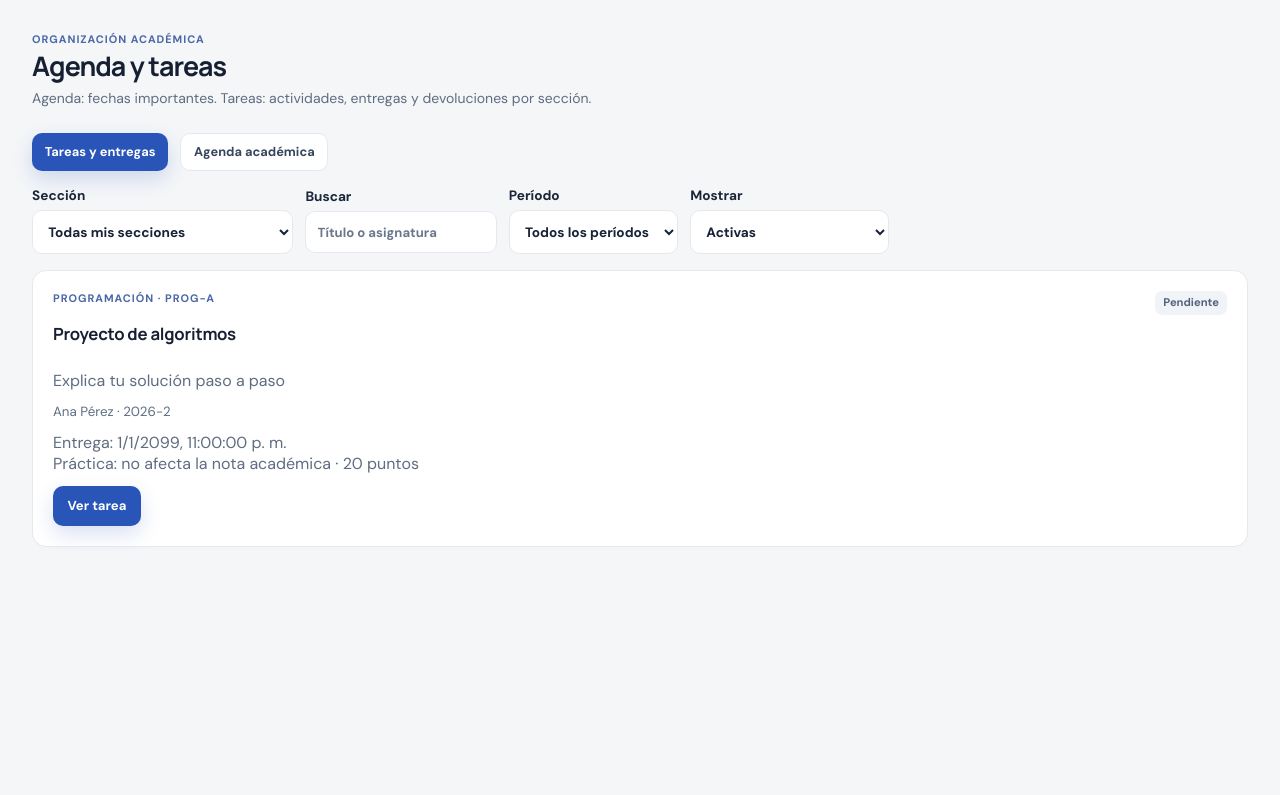
Test: switches the agenda between month, week and list with configurable time
The width and height of the screenshot is (1280, 795).
Expected: the heading "Proyecto de algoritmos" is shown, [53,322,236,345]
Click the tab "Agenda académica" at point(254, 152), box [180,133,328,171]
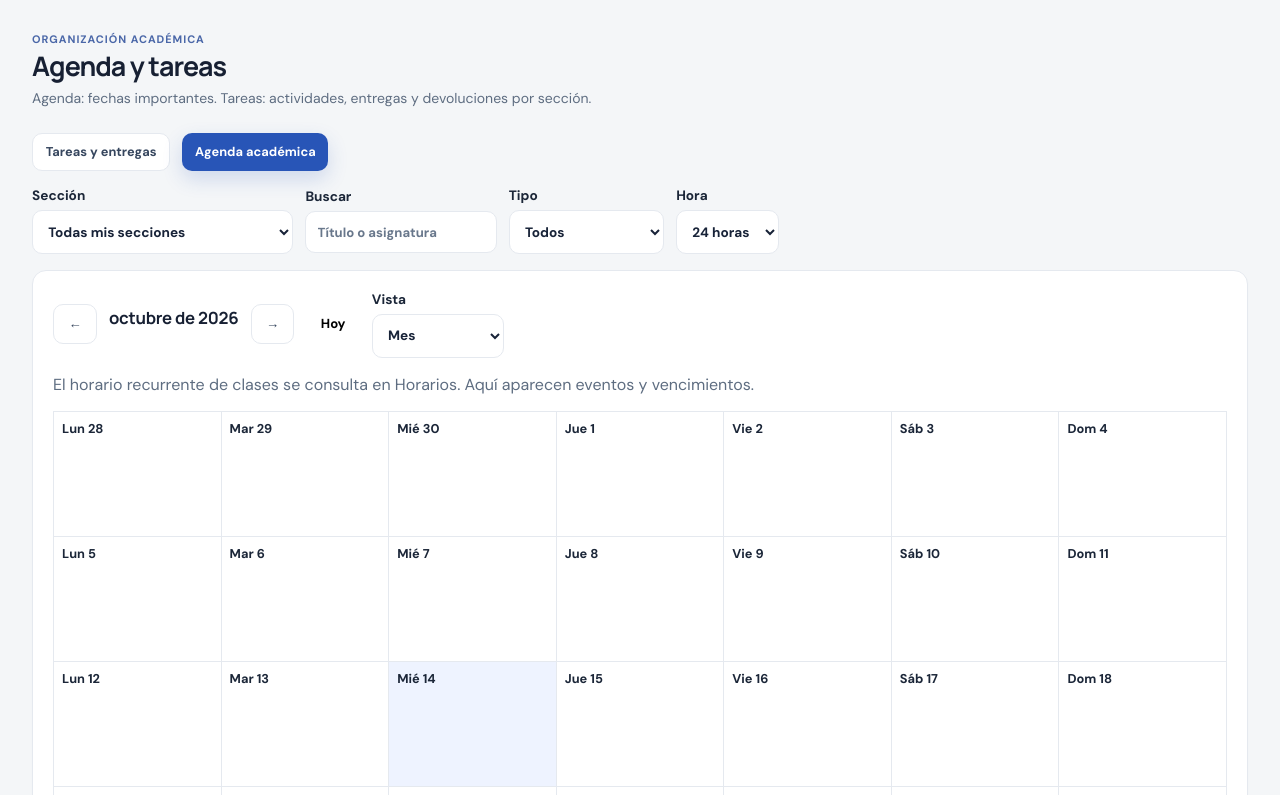
Expected: the number of elements with class "agenda-day" is 42
Select "Semana" in the dropdown labelled "Vista" at point(438, 336), box [372,314,504,358]
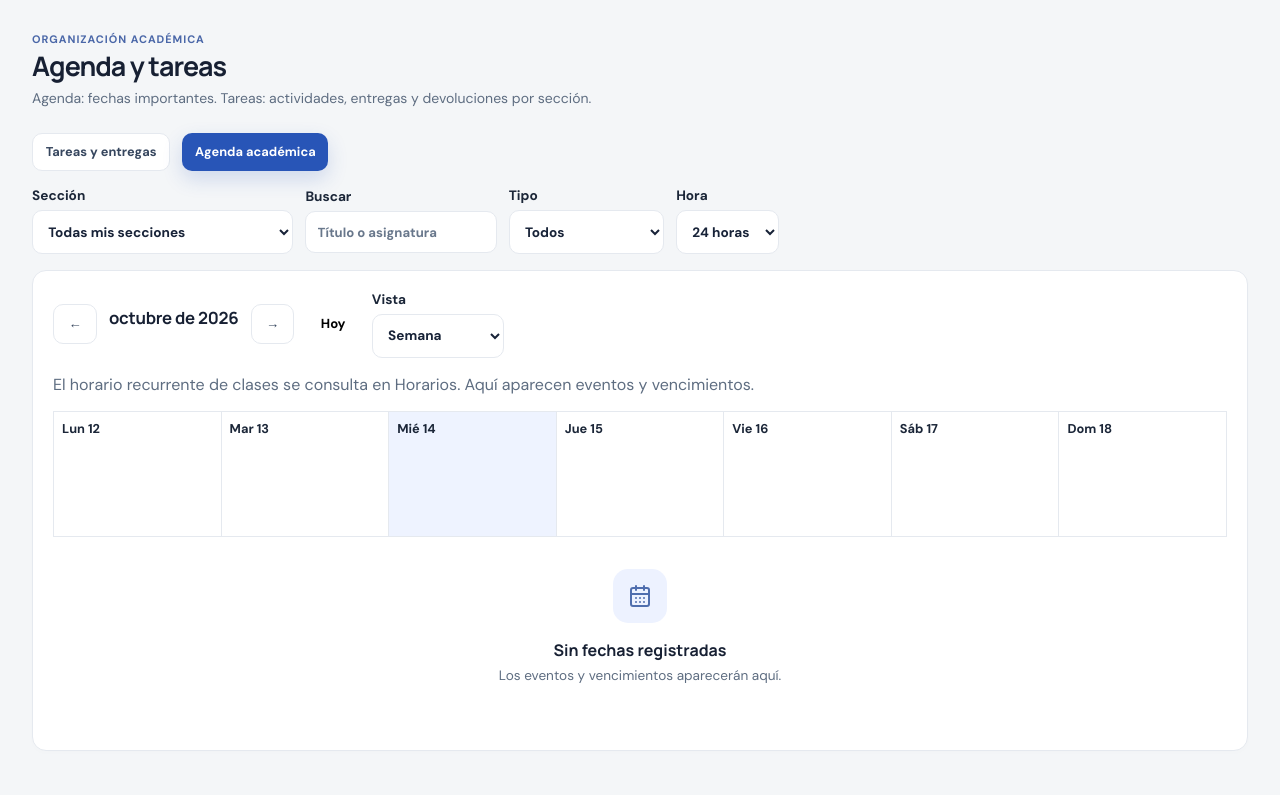
Expected: the number of elements with class "agenda-day" is 7
Select "12 horas" in the dropdown labelled "Hora" at point(727, 232), box [676,210,778,254]
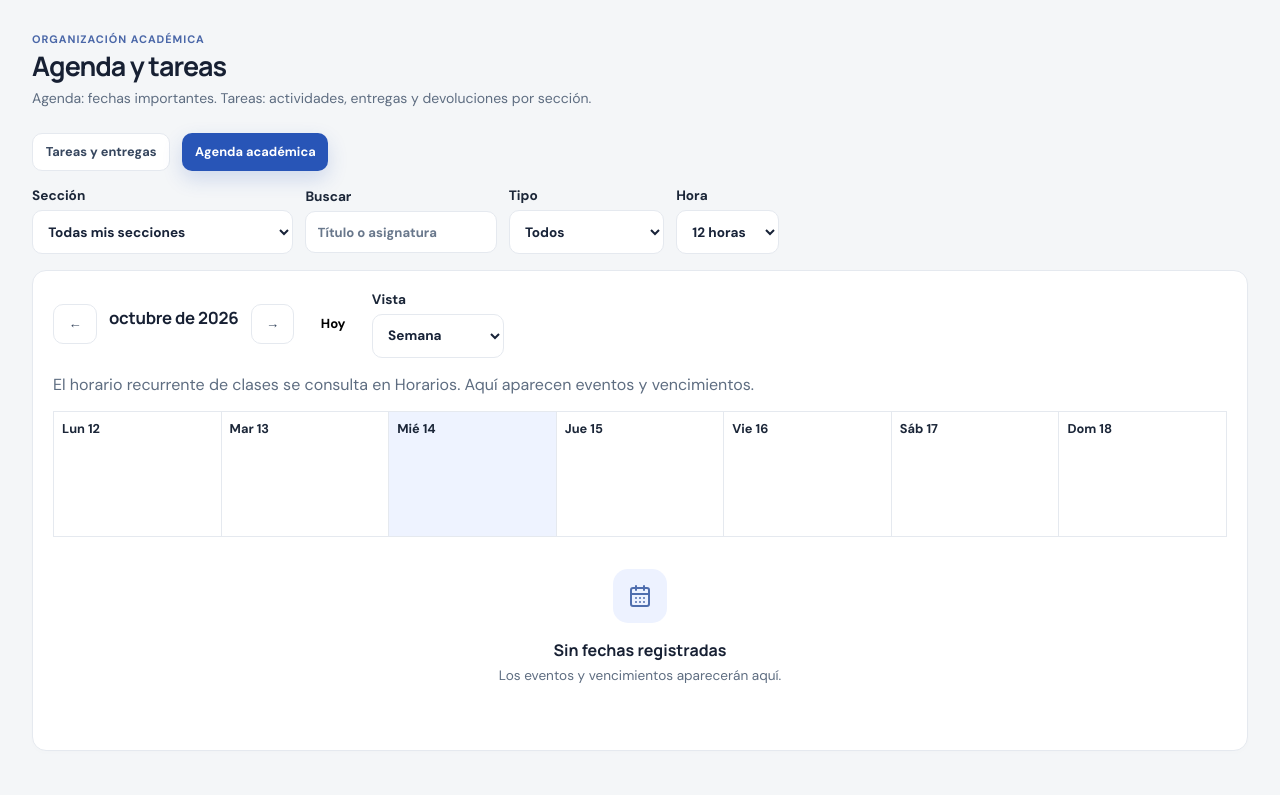
Select "Lista del mes" in the dropdown labelled "Vista" at point(438, 336), box [372,314,504,358]
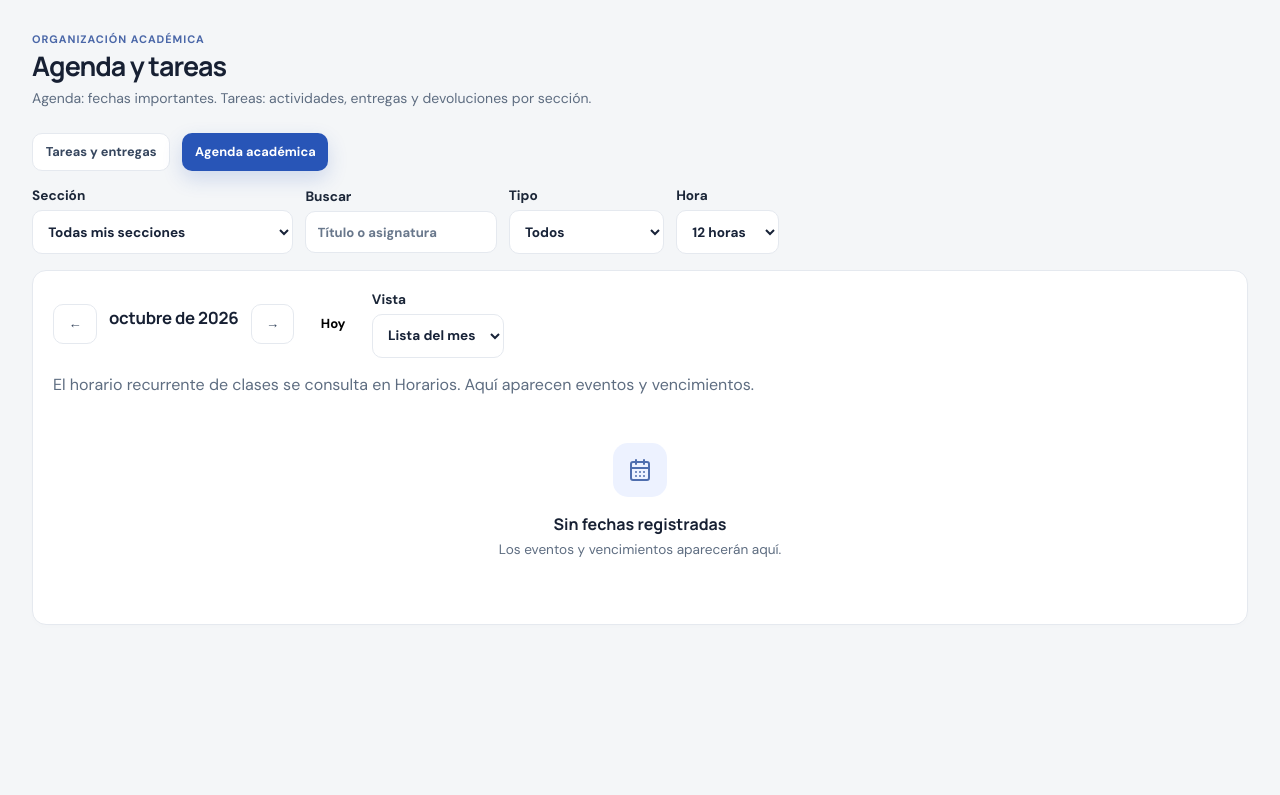
Expected: no elements with class "agenda-day" are shown
